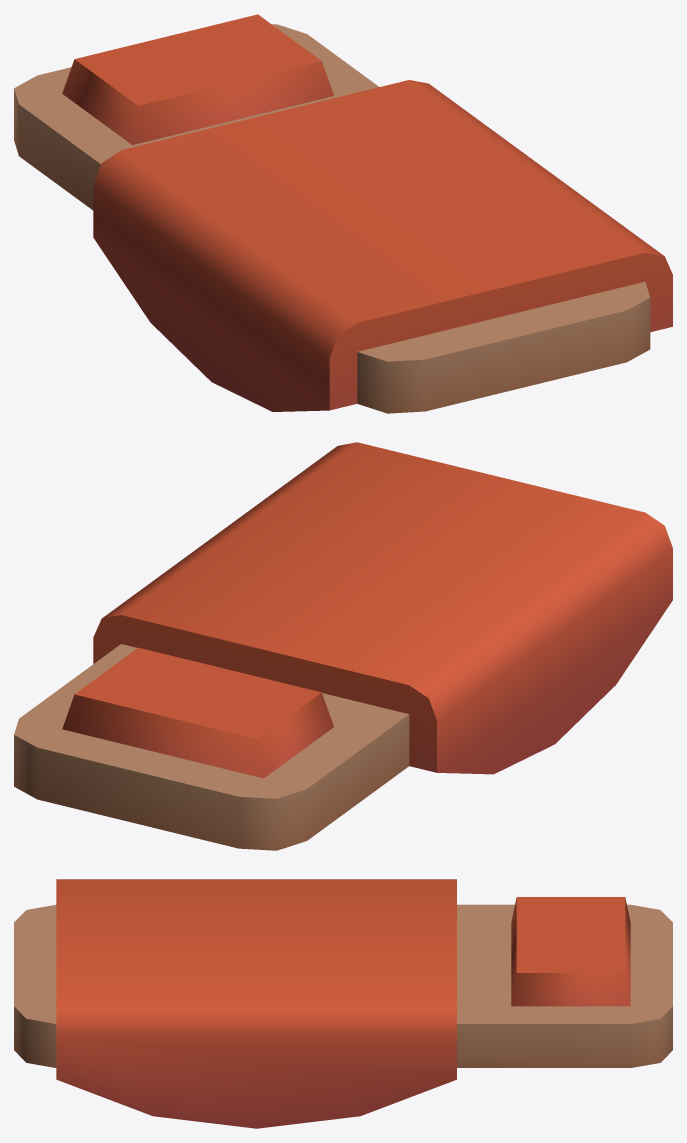
Rendered from bedroll.glb.
The picture shows the model from 3 angles, top to bottom: view 1: azimuth 30°, elevation 25°; view 2: azimuth 150°, elevation 25°; view 3: azimuth 270°, elevation 25°; orthographic projection. The views are drawn at different scales.
Visible parts, largest first — view 1: bedroll; view 2: bedroll; view 3: bedroll.
Part boxes in pixels (<box>): bedroll: <box>14,14,672,413</box>; bedroll: <box>14,442,672,850</box>; bedroll: <box>14,879,672,1128</box>.
Size of the model in its own units: 0.7153 by 0.2876 by 1.4.
